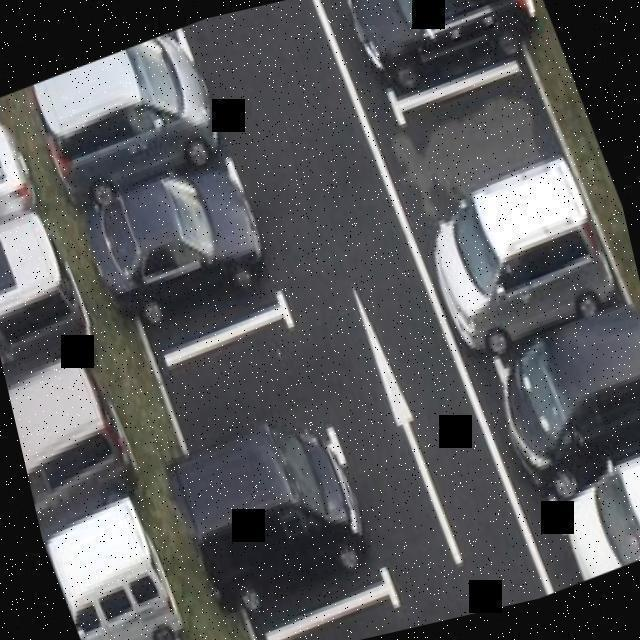space-empty: (149, 298, 350, 507), (360, 46, 575, 230), (249, 599, 415, 640)
space-occupied: (409, 167, 635, 369), (193, 445, 400, 640), (92, 160, 289, 357), (468, 315, 640, 508), (40, 24, 229, 195), (318, 0, 524, 111), (12, 388, 129, 549), (520, 453, 640, 591), (0, 249, 93, 408), (55, 539, 190, 640), (0, 126, 22, 256)
